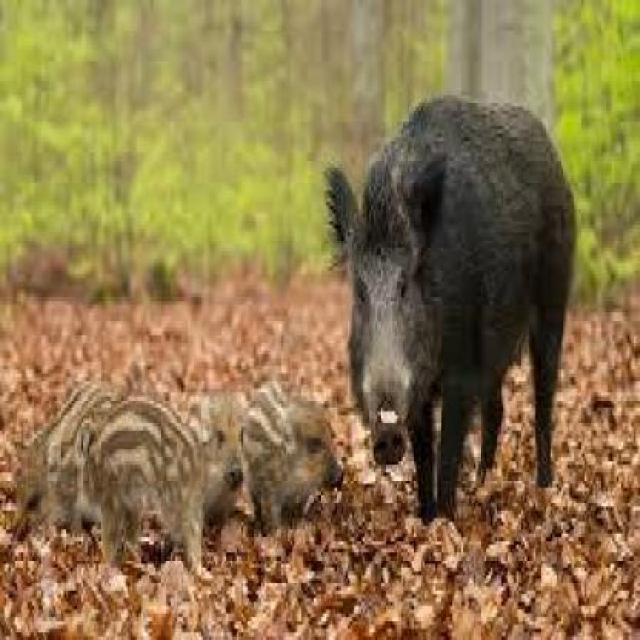wildboar: (322, 90, 580, 535), (89, 390, 211, 562), (234, 374, 348, 541), (44, 380, 125, 552), (168, 395, 246, 550)
